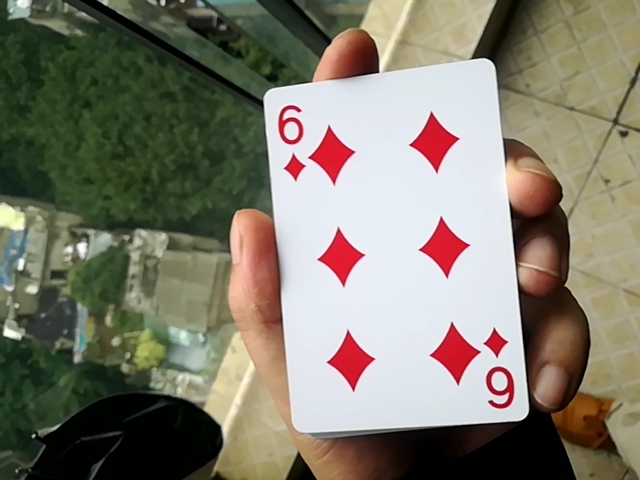fk 6: (241, 58, 540, 433)
